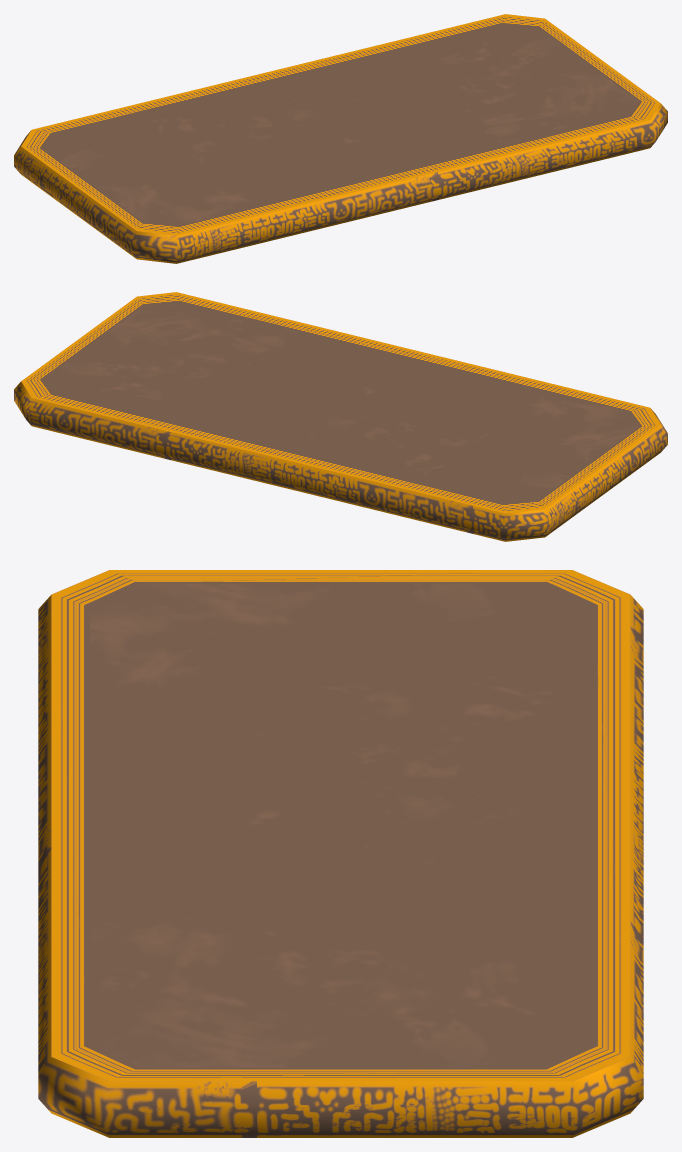
File: platform.fbx
The picture shows the model from 3 angles, top to bottom: view 1: azimuth 30°, elevation 25°; view 2: azimuth 150°, elevation 25°; view 3: azimuth 270°, elevation 25°; orthographic projection. The views are drawn at different scales.
Parts seen in each view (by area): view 1: pCube1; view 2: pCube1; view 3: pCube1.
Part boxes in pixels (left/top/right/bottom): pCube1: left=14, top=14, right=667, bottom=263; pCube1: left=14, top=292, right=667, bottom=541; pCube1: left=38, top=570, right=643, bottom=1137.
Size of the model in its own units: 42.88 by 2.16 by 20.99.
